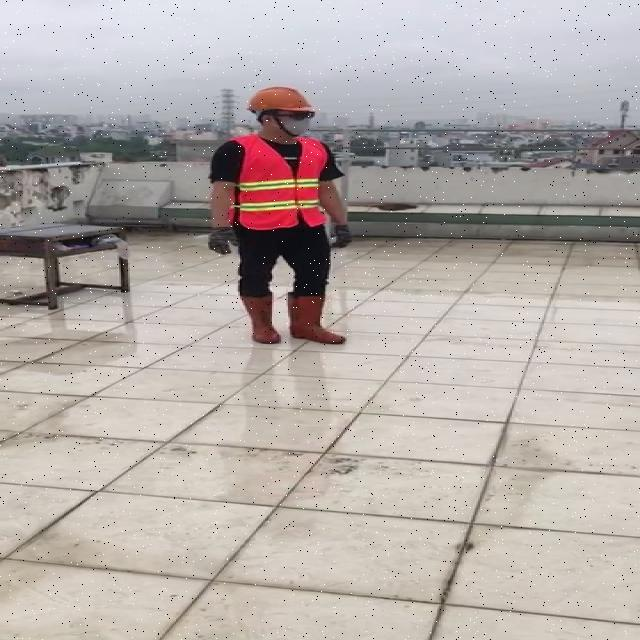Hard_hat: (242, 83, 320, 121)
Vest: (232, 131, 326, 230)
